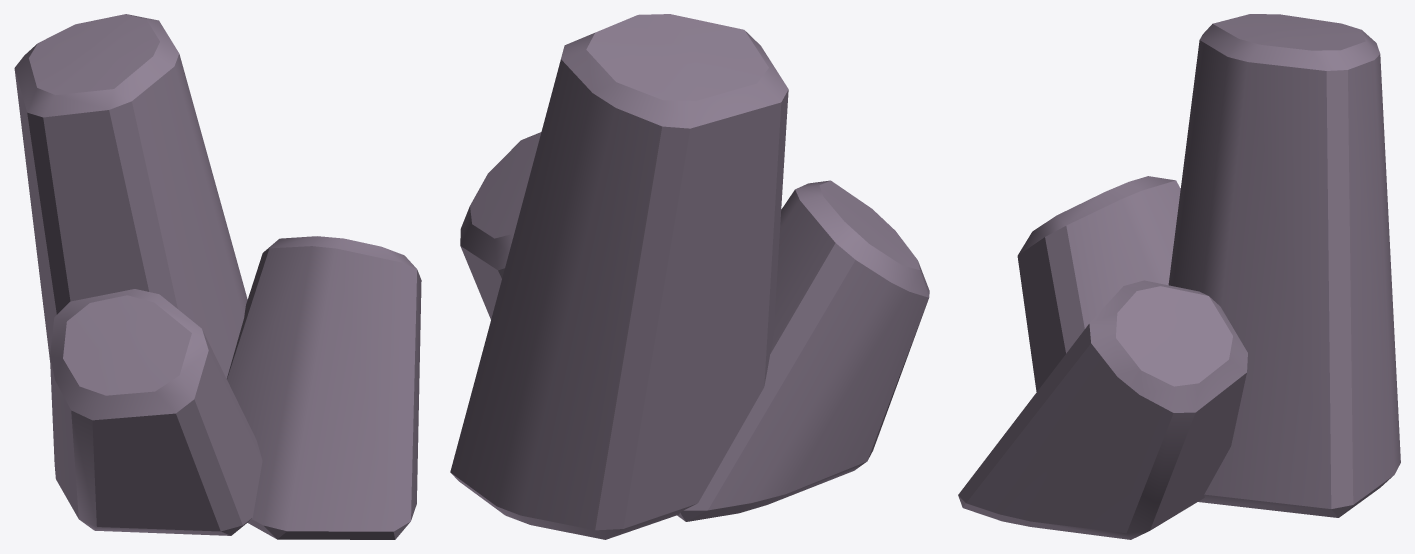
File: crystal-small.glb
3 renders of one model, left to right at view 1: azimuth 30°, elevation 25°; view 2: azimuth 150°, elevation 25°; view 3: azimuth 270°, elevation 25°, orthographic. The views are drawn at different scales.
Parts seen in each view (by area): view 1: Crystal_Small; view 2: Crystal_Small; view 3: Crystal_Small.
Part boxes in pixels (box(x1,y1,x2,y2)): Crystal_Small: box(14, 14, 421, 539); Crystal_Small: box(450, 14, 929, 539); Crystal_Small: box(958, 14, 1400, 539).
Bounding box in the file's own units: 0.7645 × 0.8168 × 0.7817.
1 material, 1 textured.
